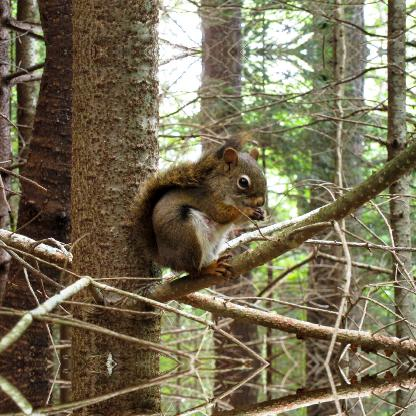Squirrel: (128, 131, 268, 282)
